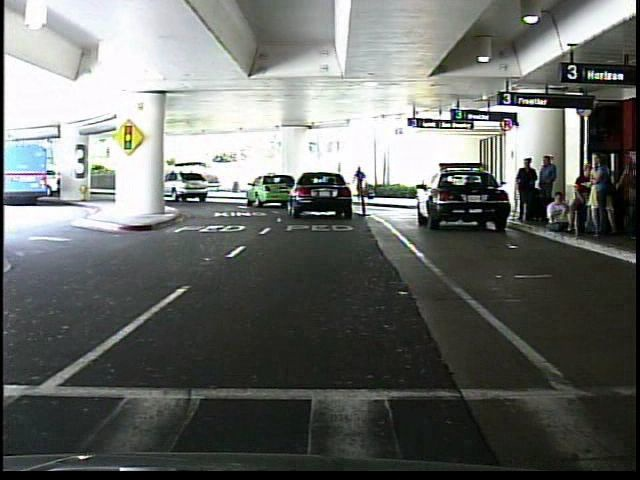person: (517, 153, 540, 223), (535, 152, 557, 222), (354, 164, 370, 205)
